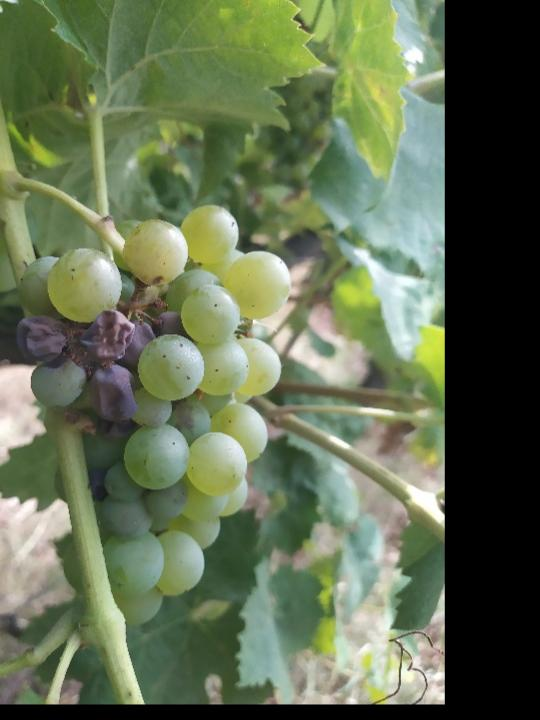grape: (16, 201, 294, 629)
